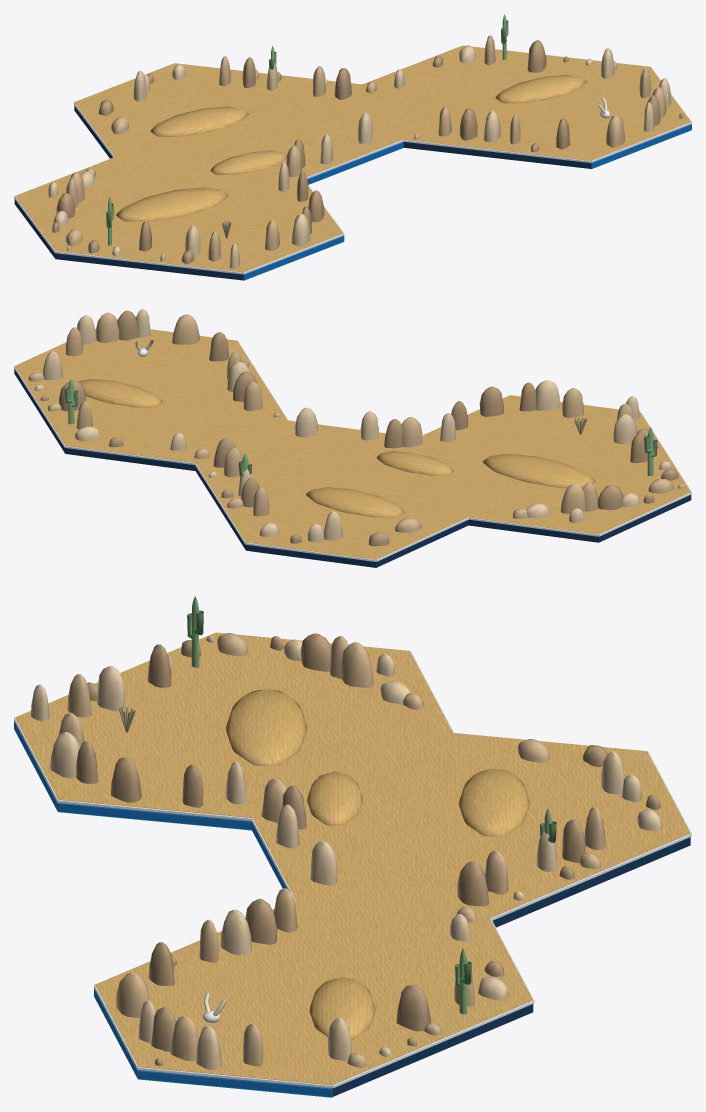
File: field_cm20_01.glb
The picture shows the model from 3 angles, top to bottom: view 1: azimuth 30°, elevation 25°; view 2: azimuth 150°, elevation 25°; view 3: azimuth 270°, elevation 25°; orthographic projection. The views are drawn at different scales.
Parts seen in each view (by area): view 1: field_cm20_01-runtime-static; view 2: field_cm20_01-runtime-static; view 3: field_cm20_01-runtime-static.
Part boxes in pixels (left/top/right/bottom): field_cm20_01-runtime-static: left=14, top=14, right=691, bottom=280; field_cm20_01-runtime-static: left=14, top=309, right=691, bottom=567; field_cm20_01-runtime-static: left=14, top=596, right=691, bottom=1097.
Size of the model in its own units: 19.17 by 1.63 by 12.12.
1 material, 1 textured.
